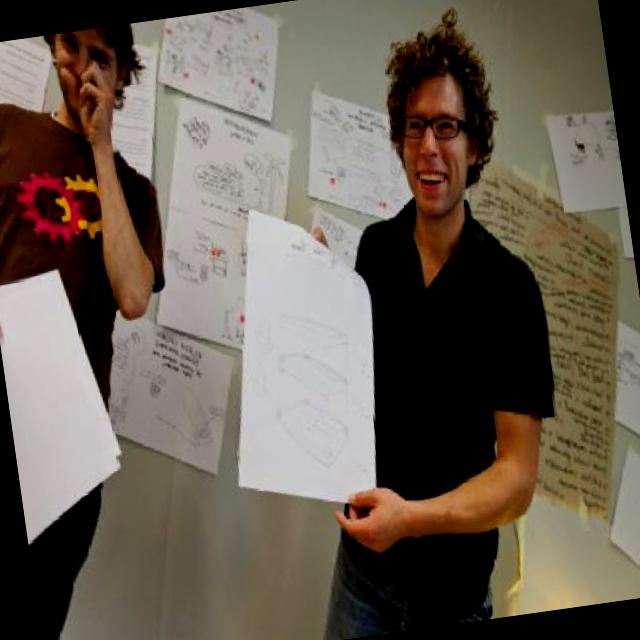Person: (236, 0, 583, 640), (0, 21, 232, 640)
